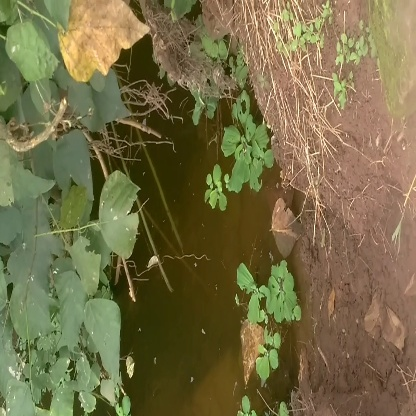leaf: (59, 1, 151, 80), (93, 167, 151, 256)
